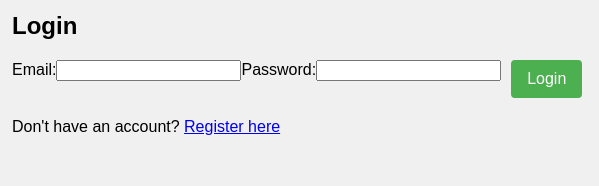
Scenario: Login component › displays a general error message if login fails without a specific error message
Type "test@example.com" into the field labelled "Email:".
click(149, 70); type("test@example.com")  # box x1=56 y1=60 x2=242 y2=81
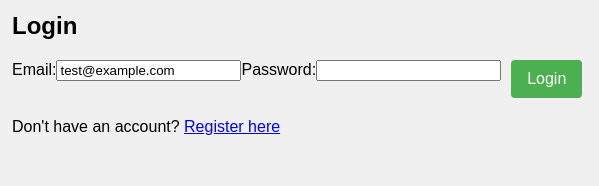
Type "wrongpassword" into the password field labelled "Password:".
click(409, 70); type("wrongpassword")  # box x1=316 y1=60 x2=501 y2=81
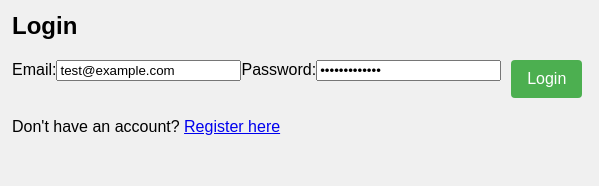
Click the button "Login".
click(547, 79)  # box x1=511 y1=60 x2=582 y2=98
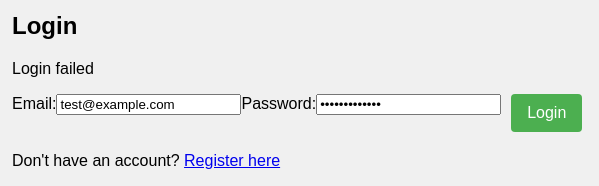
Check: the text "Login failed" is shown, box x1=12 y1=60 x2=94 y2=77
